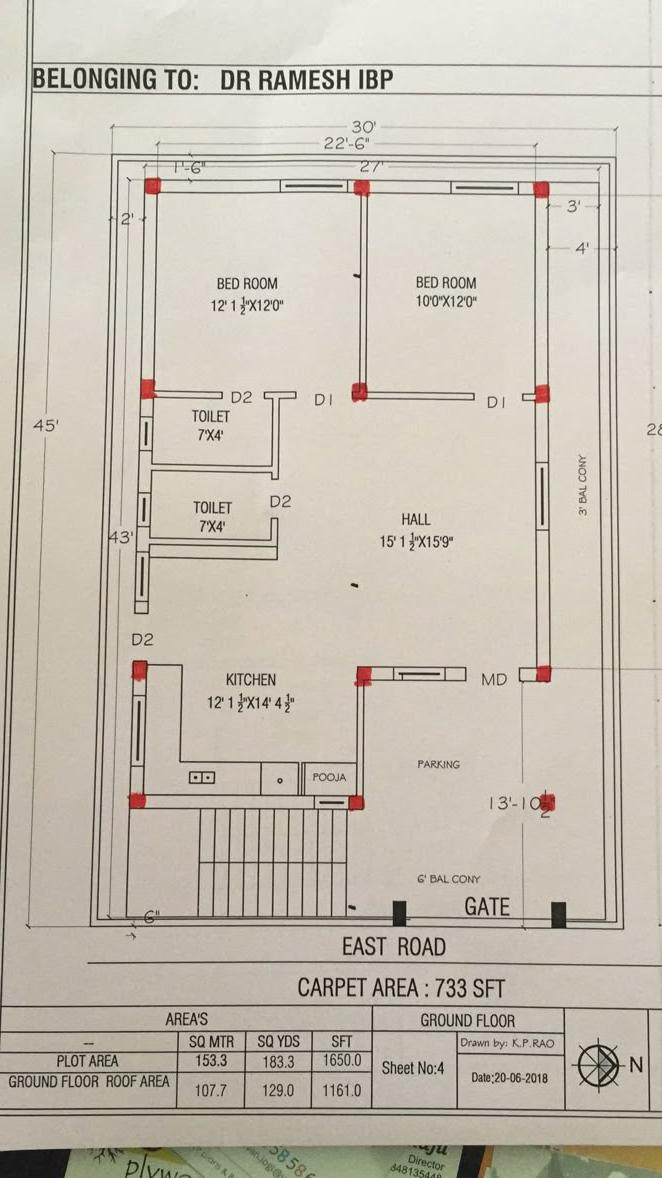Blueprint: (121, 174, 567, 824)
wall: (146, 792, 317, 812), (534, 196, 550, 384), (536, 530, 552, 667), (152, 535, 280, 551), (144, 194, 155, 380), (158, 179, 280, 193), (153, 461, 272, 475), (358, 193, 365, 384), (368, 179, 451, 195), (154, 388, 222, 402), (367, 392, 476, 400), (356, 687, 364, 796), (536, 402, 549, 463), (136, 450, 153, 495), (272, 398, 281, 480), (131, 764, 146, 797), (136, 526, 152, 554), (262, 390, 297, 402), (444, 667, 468, 681), (372, 666, 394, 681), (140, 398, 154, 419), (135, 597, 149, 618), (520, 666, 538, 681), (518, 181, 536, 195), (272, 516, 279, 546)
